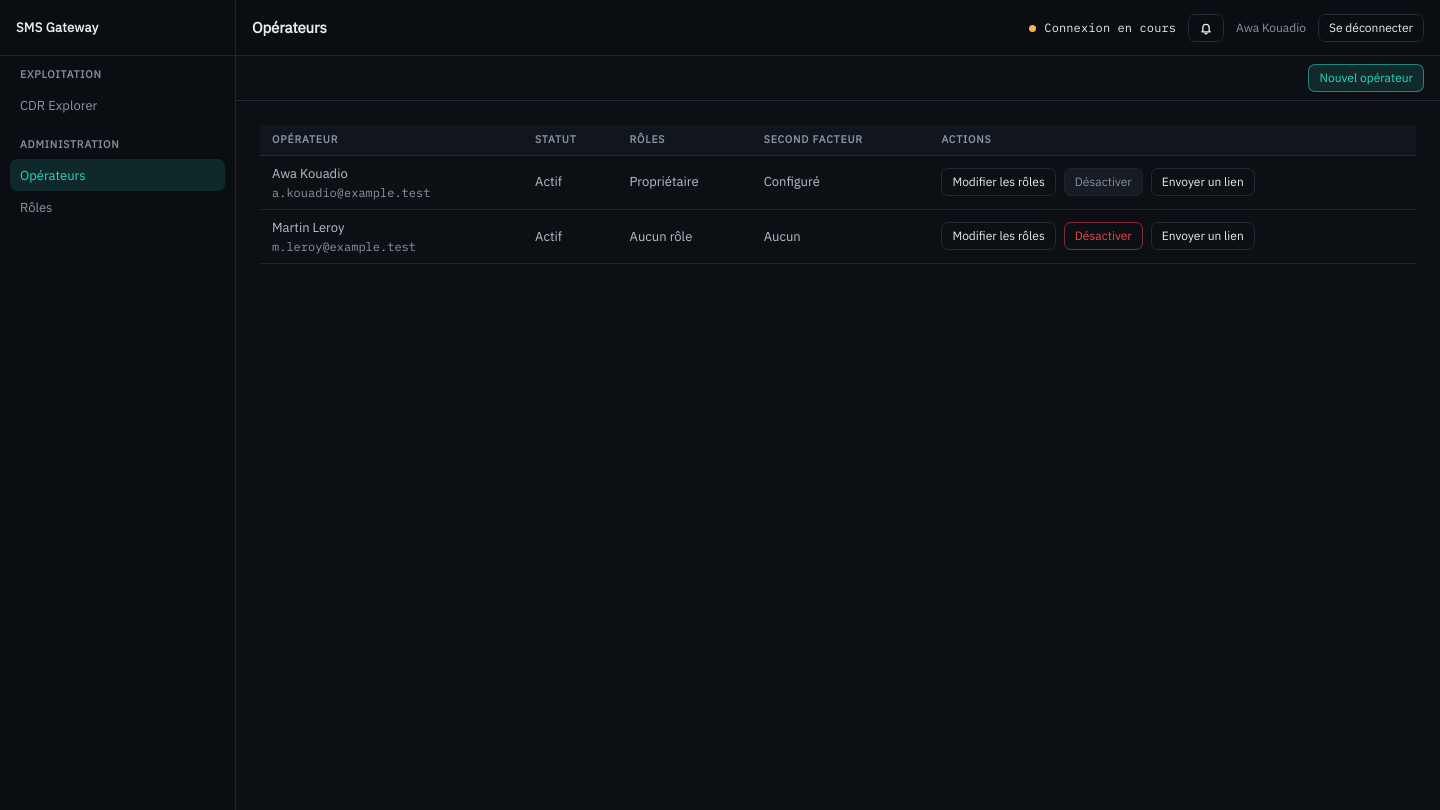
Test: the operators screen › creates an operator, who appears in the list
The image size is (1440, 810).
Expected: the heading "Opérateurs" is shown, [252,18,327,37]
Expected: the cell "Martin Leroy m.leroy@example.test" is shown, [260,209,523,263]
Click the button "Nouvel opérateur": (1366, 78) [1308,64,1424,92]
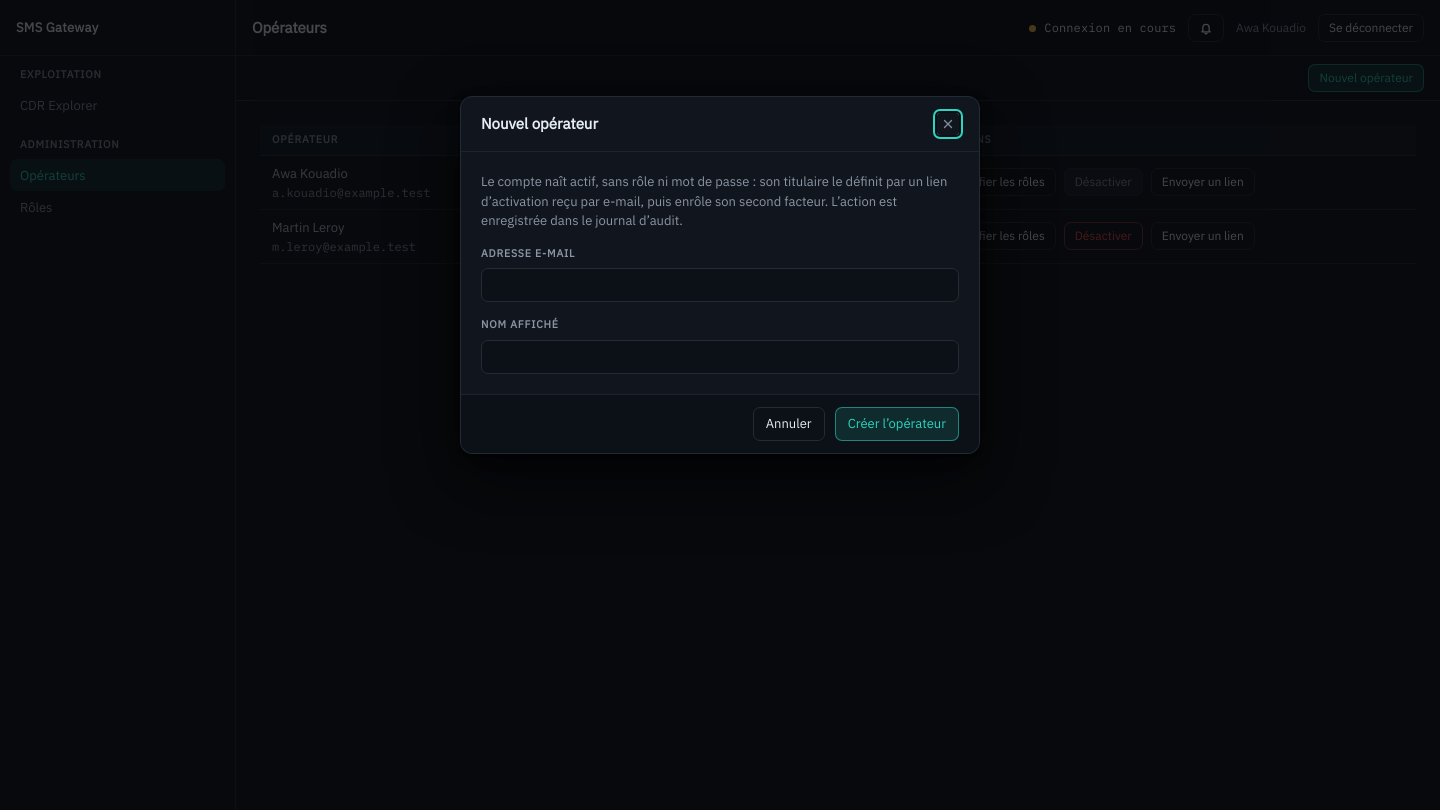
In the field labelled "Adresse e-mail": (720, 285) [481,268,959,302], type "n.benali@example.test"
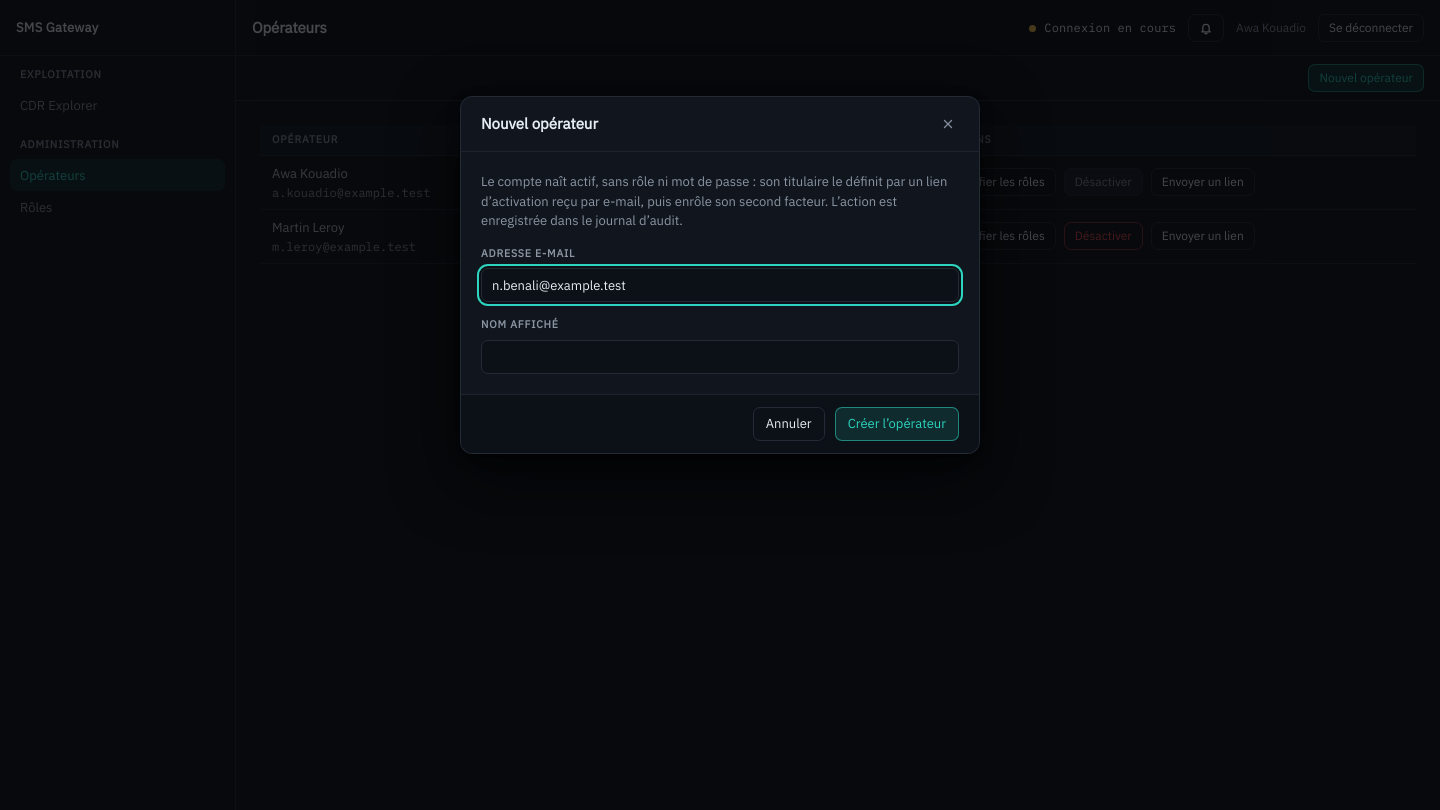
In the field labelled "Nom affiché": (720, 357) [481,340,959,374], type "Nadia Benali"
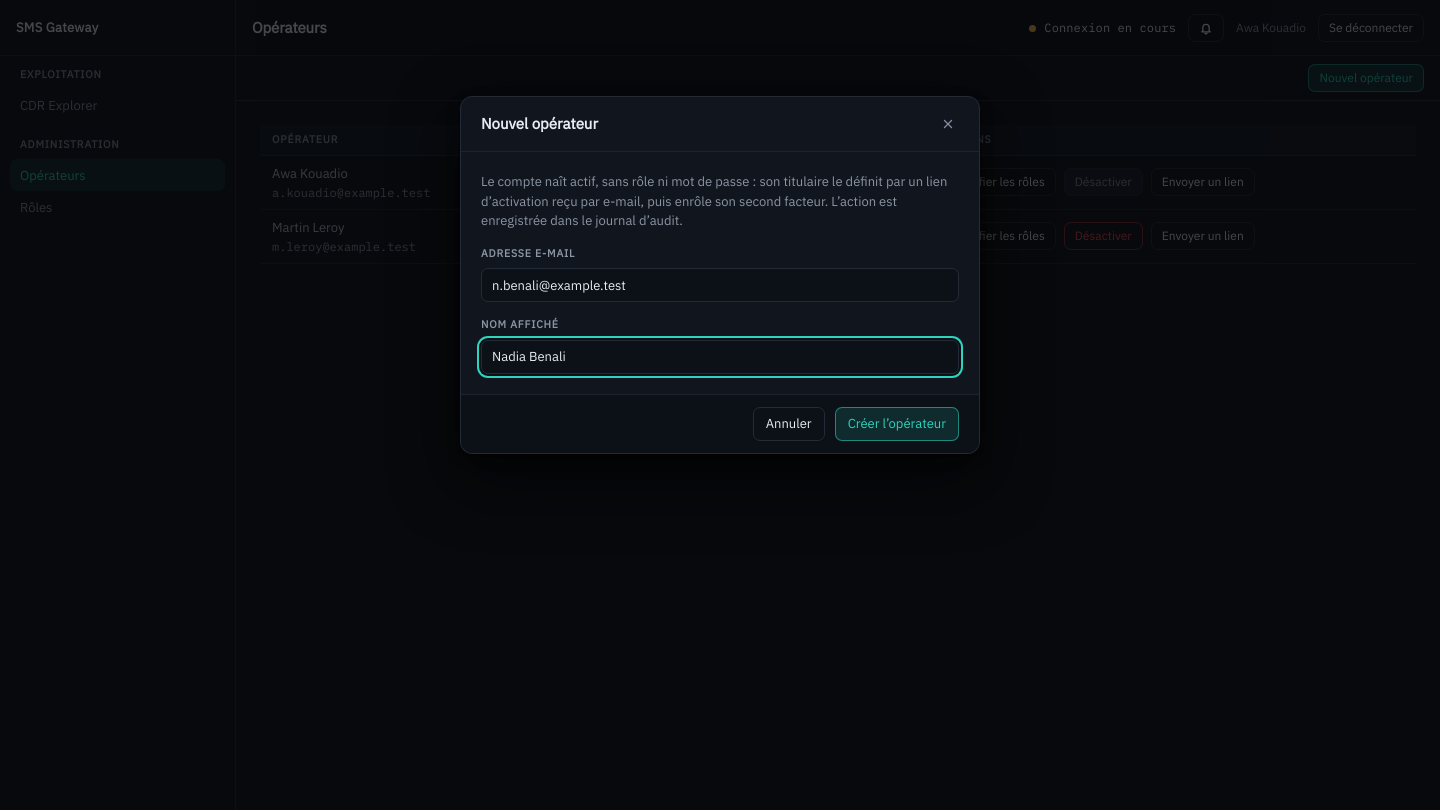
Click the button "Créer l’opérateur": (897, 424) [835,407,959,441]
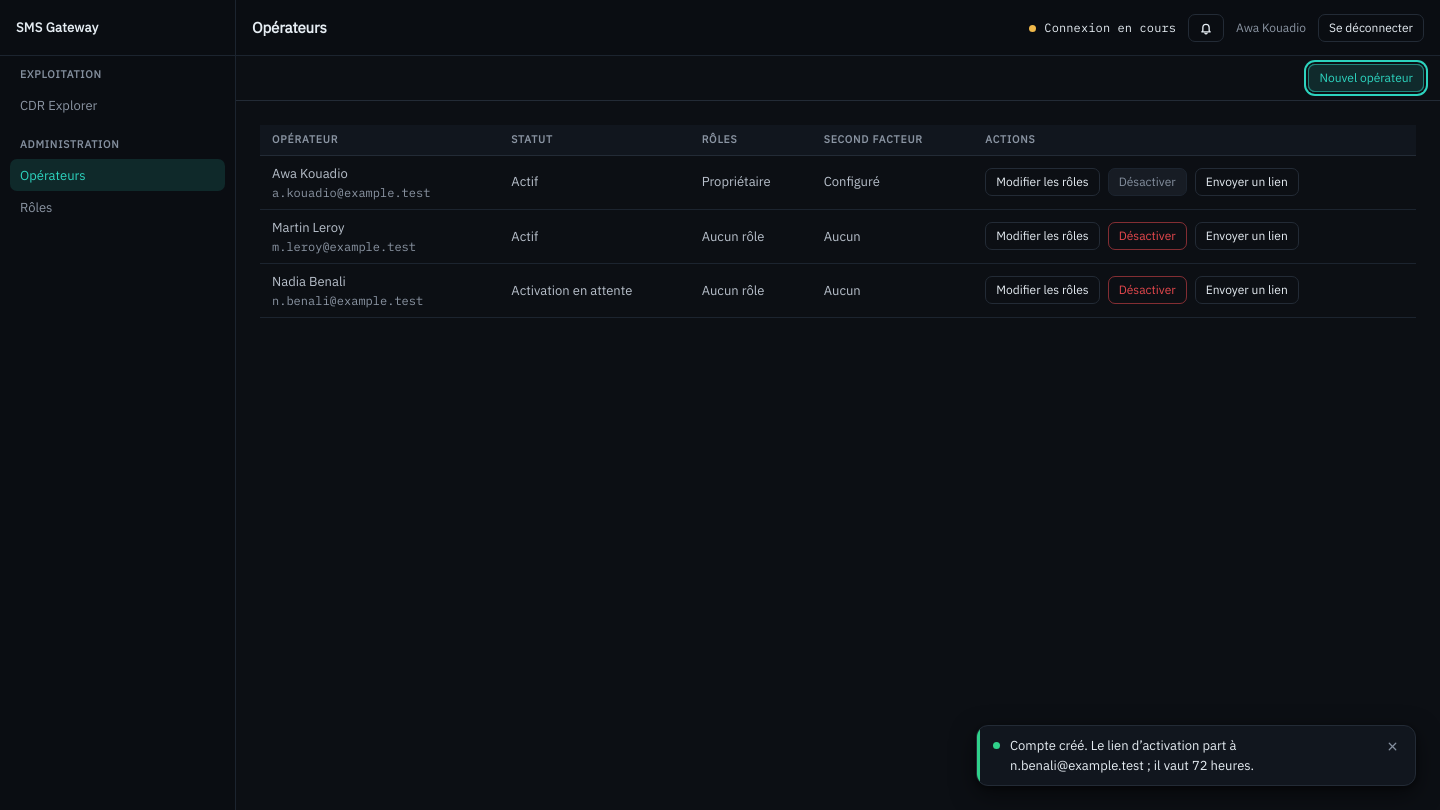
Expected: the cell "Nadia Benali n.benali@example.test" is shown, [260,263,499,317]
Expected: the heading "Compte créé. Le lien d’activation part à n.benali@example.test ; il vaut 72 heures." is shown, [1010,737,1254,774]
